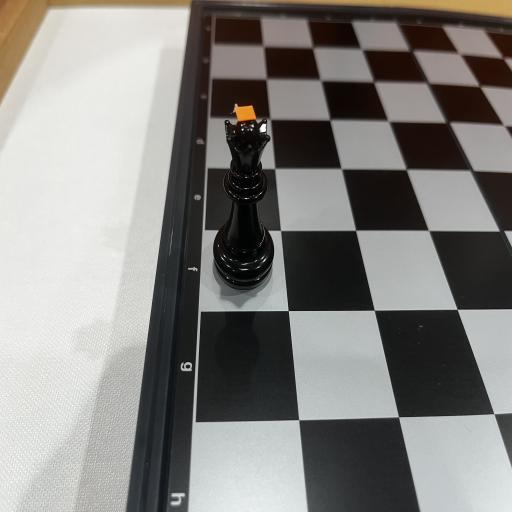Black queen: (212, 104, 274, 290)
